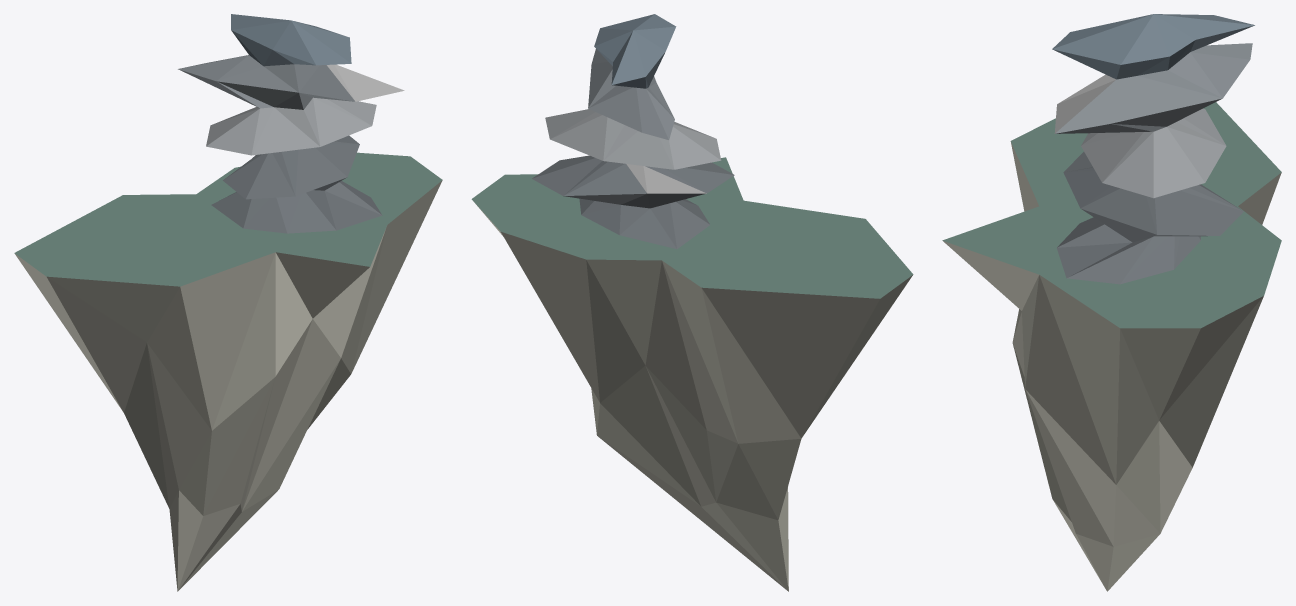
The model's file is islandWithAssets01.fbx.
The picture shows the model from 3 angles, left to right: view 1: azimuth 30°, elevation 25°; view 2: azimuth 150°, elevation 25°; view 3: azimuth 270°, elevation 25°; orthographic projection. The views are drawn at different scales.
Visible parts, largest first — view 1: pCylinder2; view 2: pCylinder2; view 3: pCylinder2.
Boxes of the visible parts, x1=… form: pCylinder2: x1=14, y1=14, x2=442, y2=591; pCylinder2: x1=471, y1=14, x2=913, y2=591; pCylinder2: x1=942, y1=14, x2=1281, y2=591.
Bounding box in the file's own units: 0.0709 × 0.0899 × 0.042.
